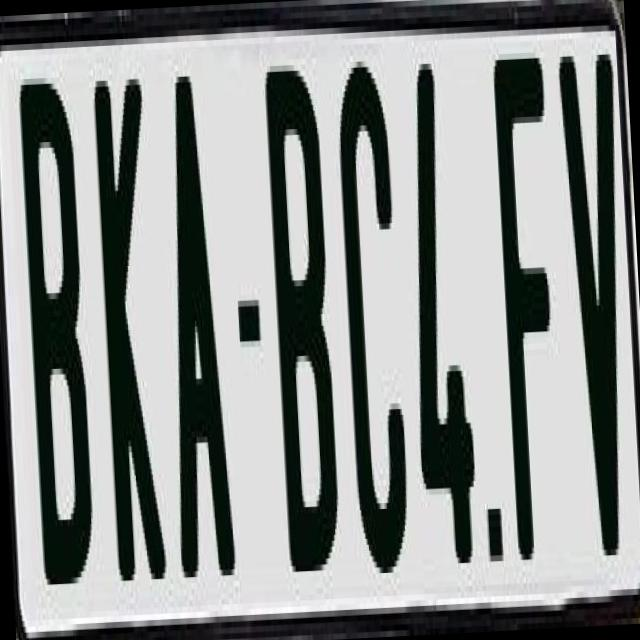4: (399, 44, 488, 576)
A: (154, 63, 236, 578)
B: (17, 77, 104, 602), (259, 64, 344, 566)
C: (332, 54, 414, 603)
F: (492, 52, 572, 578)
K: (92, 79, 170, 593)
V: (553, 38, 630, 552)
